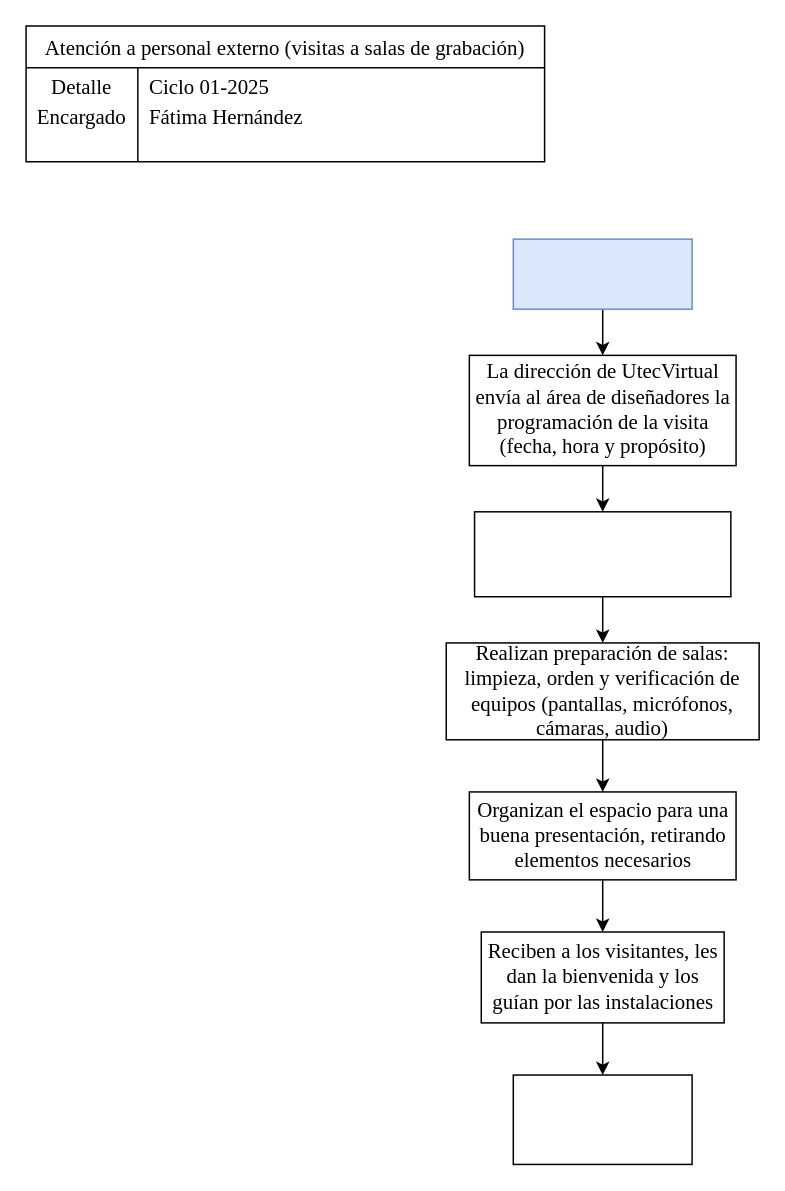
Image size: 785x1191. Some labels were removed from this diagram. Here are the shapes that lost their labels. From the top down, the centre of each, then its label:
the point at 602,273: Atención a personal externo
the point at 602,553: El área de diseñadores revisa la programación y confirama la información
the point at 602,1119: Al finalizar, agradecen la visita y respoden consultas
